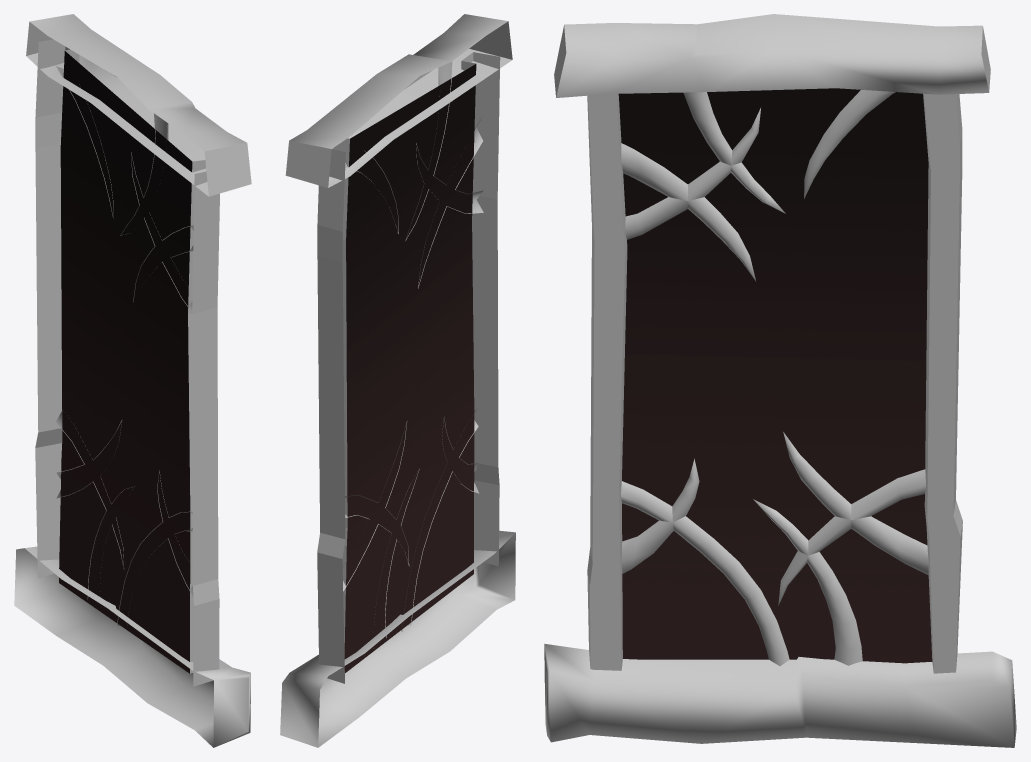
Rendered from lower_city_window_11.fbx.
3 renders of one model, left to right at view 1: azimuth 30°, elevation 25°; view 2: azimuth 150°, elevation 25°; view 3: azimuth 270°, elevation 25°, orthographic. The views are drawn at different scales.
Visible parts, largest first — view 1: lower_city_window_11; view 2: lower_city_window_11; view 3: lower_city_window_11.
Part boxes in pixels (left/top/right/bottom): lower_city_window_11: left=14, top=14, right=251, bottom=747; lower_city_window_11: left=280, top=14, right=515, bottom=747; lower_city_window_11: left=544, top=14, right=1016, bottom=747.
Bounding box in the file's own units: 0.1666 × 2.08 × 1.25.
